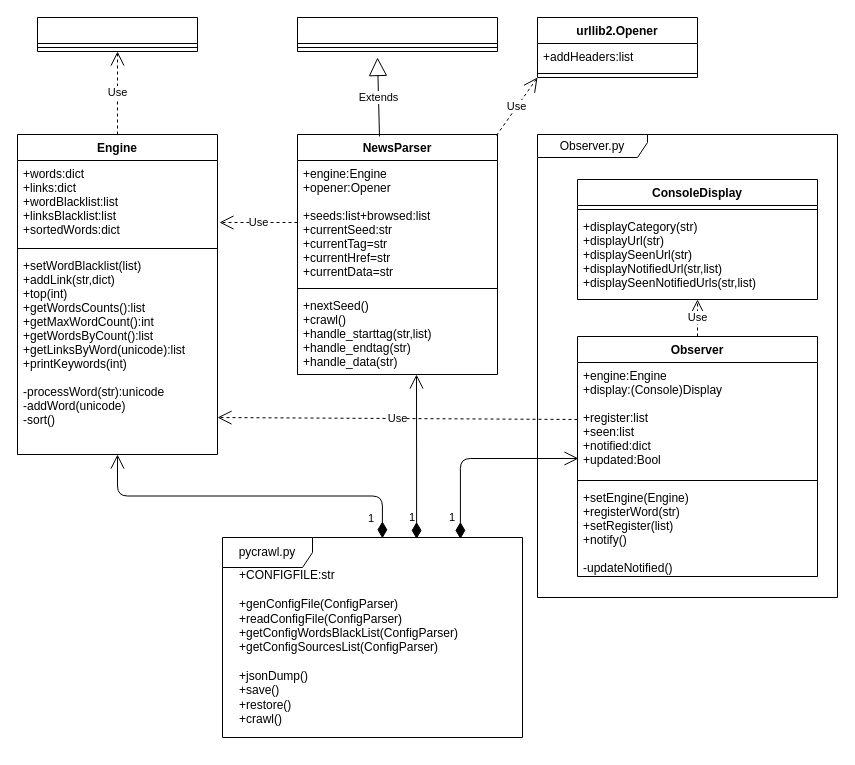
Some shapes in this 855 by 765 pixel diagram are drawn without their labels. The centre of each missing label's shape, as x and y in pixels:
HTMLParser.HTMLParser: [397,34]
urlparse.urljoin: [117,34]
